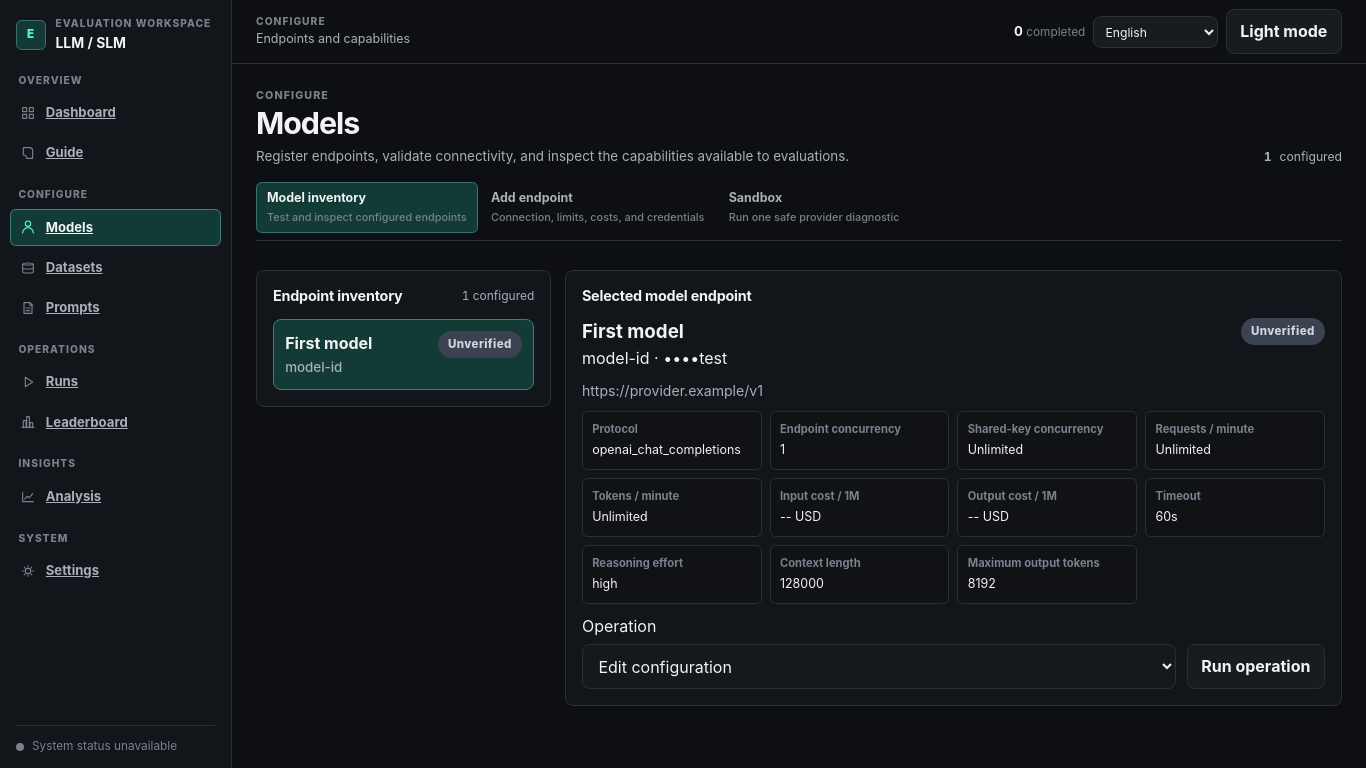
Test: endpoint onboarding handoff › keeps the user on the form after saving an edit instead of navigating to inventory
Click the button with aria-label "Select First model".
click(329, 343)  # box [273, 319, 534, 390]
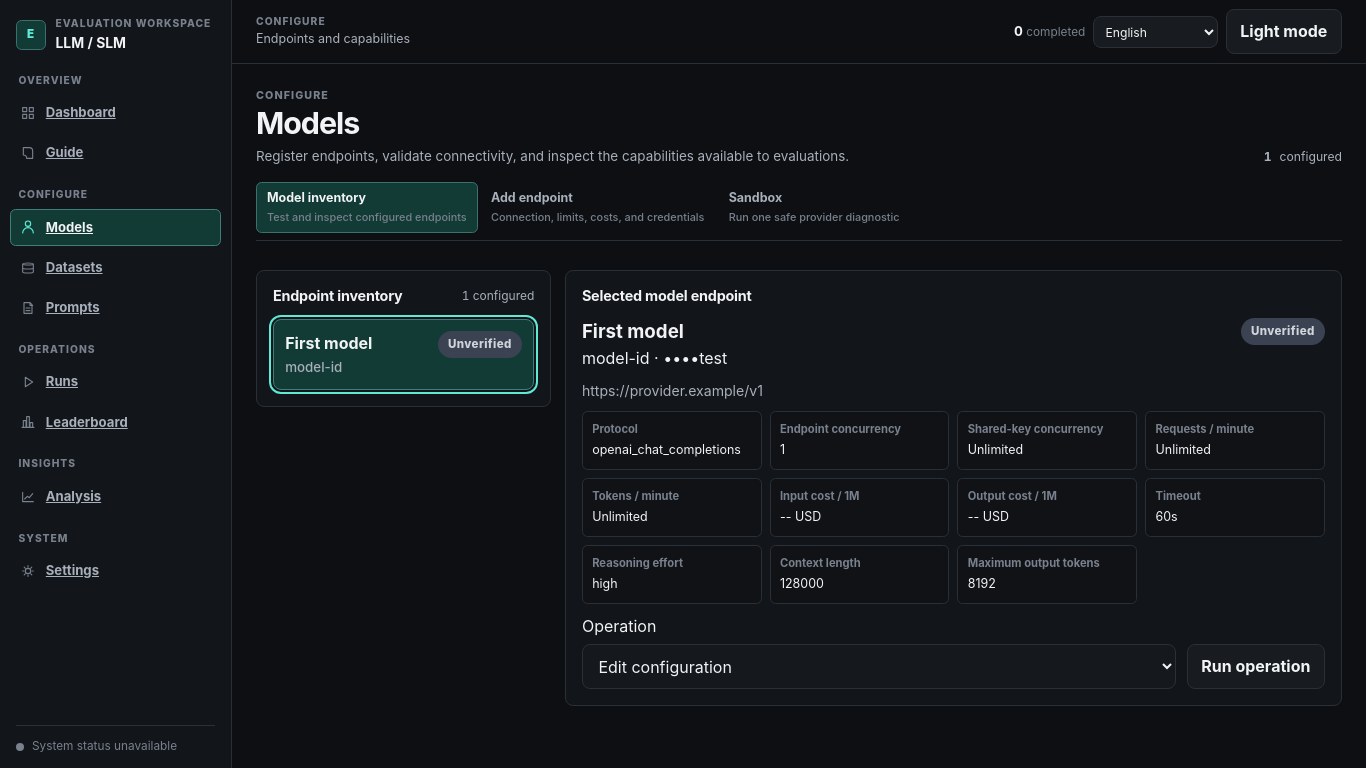
Select "Edit configuration" in the dropdown labelled "Operation" at (879, 667), box [582, 644, 1176, 689]
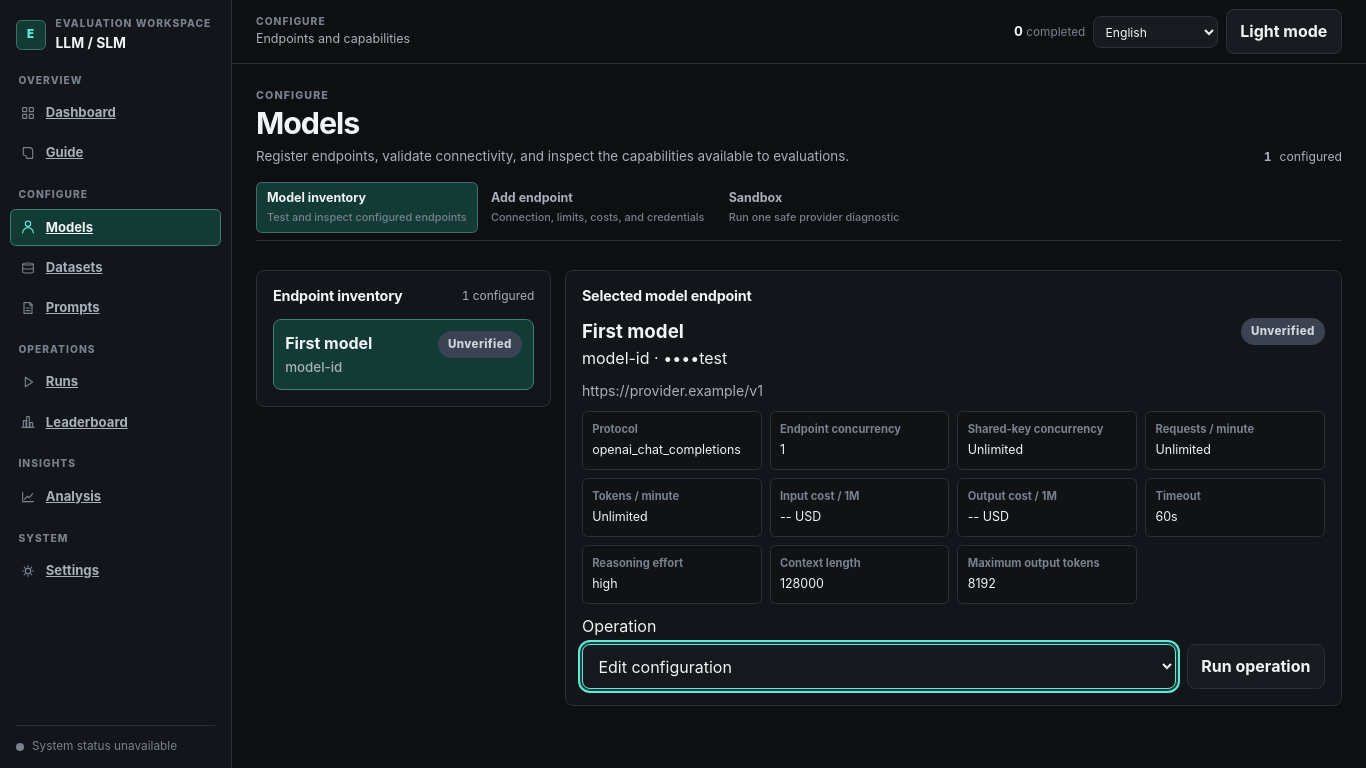
Click the button "Run operation".
click(1256, 666)  # box [1187, 644, 1325, 689]
(page scrolled)
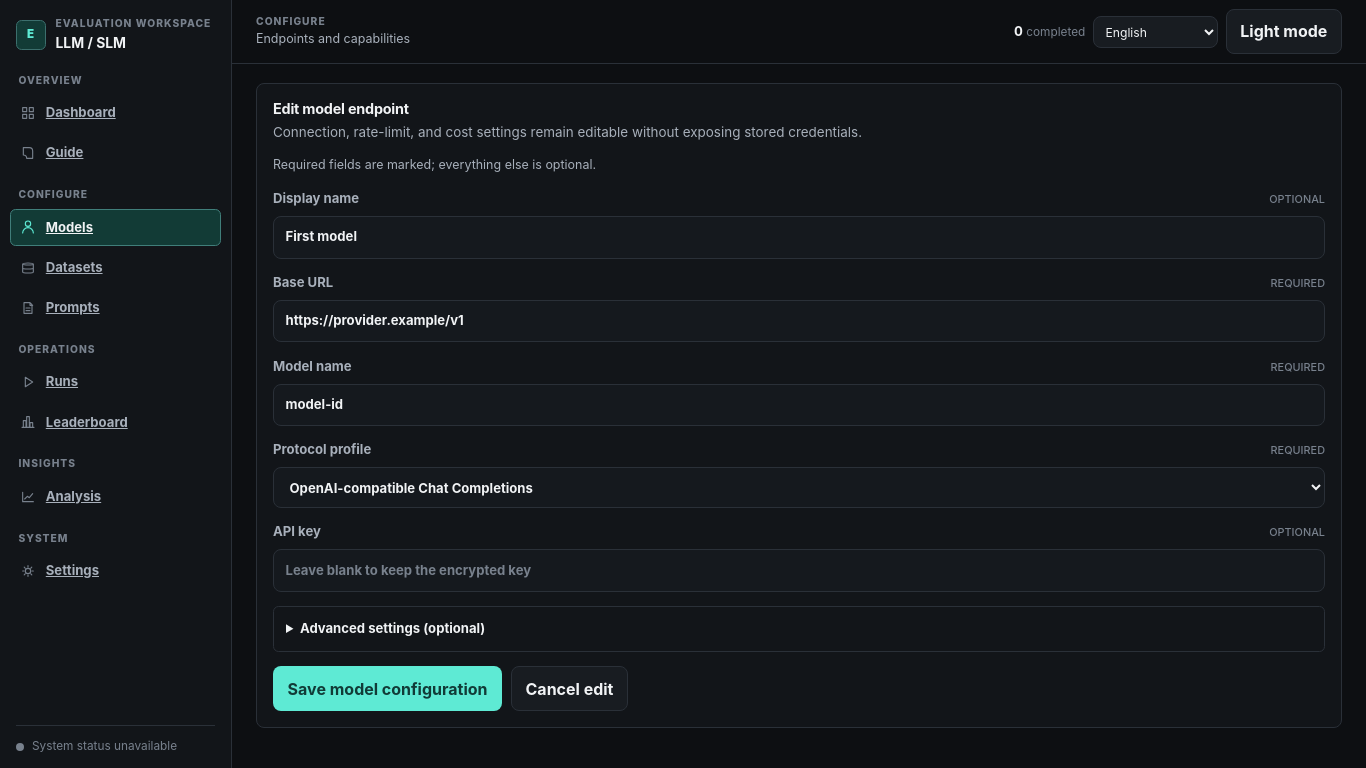
Check: the field labelled "Display name" holds "First model", box [273, 216, 1325, 258]
Click the heading "Advanced settings (optional)".
click(393, 628)  # box [300, 620, 485, 636]
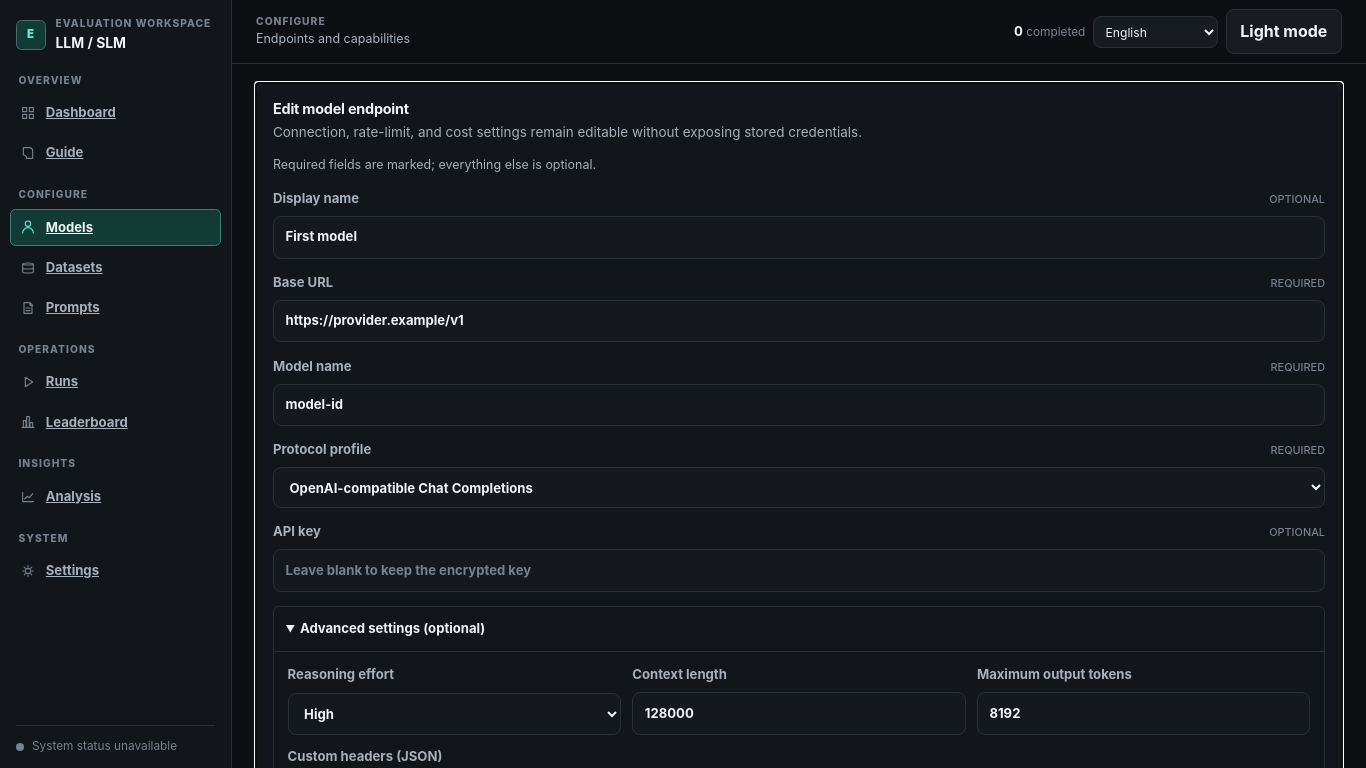
Check: the dropdown labelled "Reasoning effort" shows "High", box [288, 693, 621, 735]
Check: the number field labelled "Context length" holds "128000", box [632, 692, 966, 735]
Check: the number field labelled "Maximum output tokens" holds "8192", box [977, 692, 1310, 735]
Replace the text in the field labelled "Display name" with "Renamed model" at (799, 237), box [273, 216, 1325, 258]
(page scrolled)
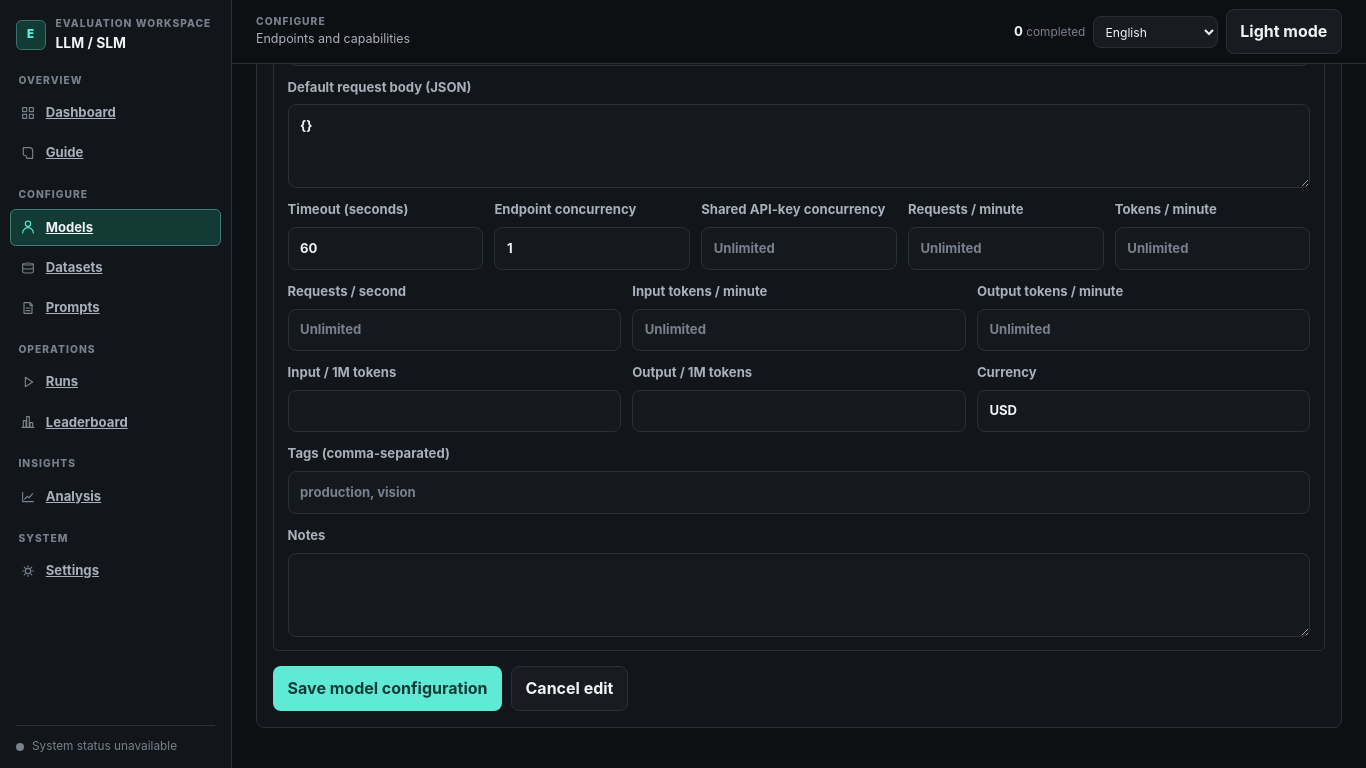
Click the button "Save model configuration".
click(388, 688)  # box [273, 666, 502, 711]
(page scrolled)
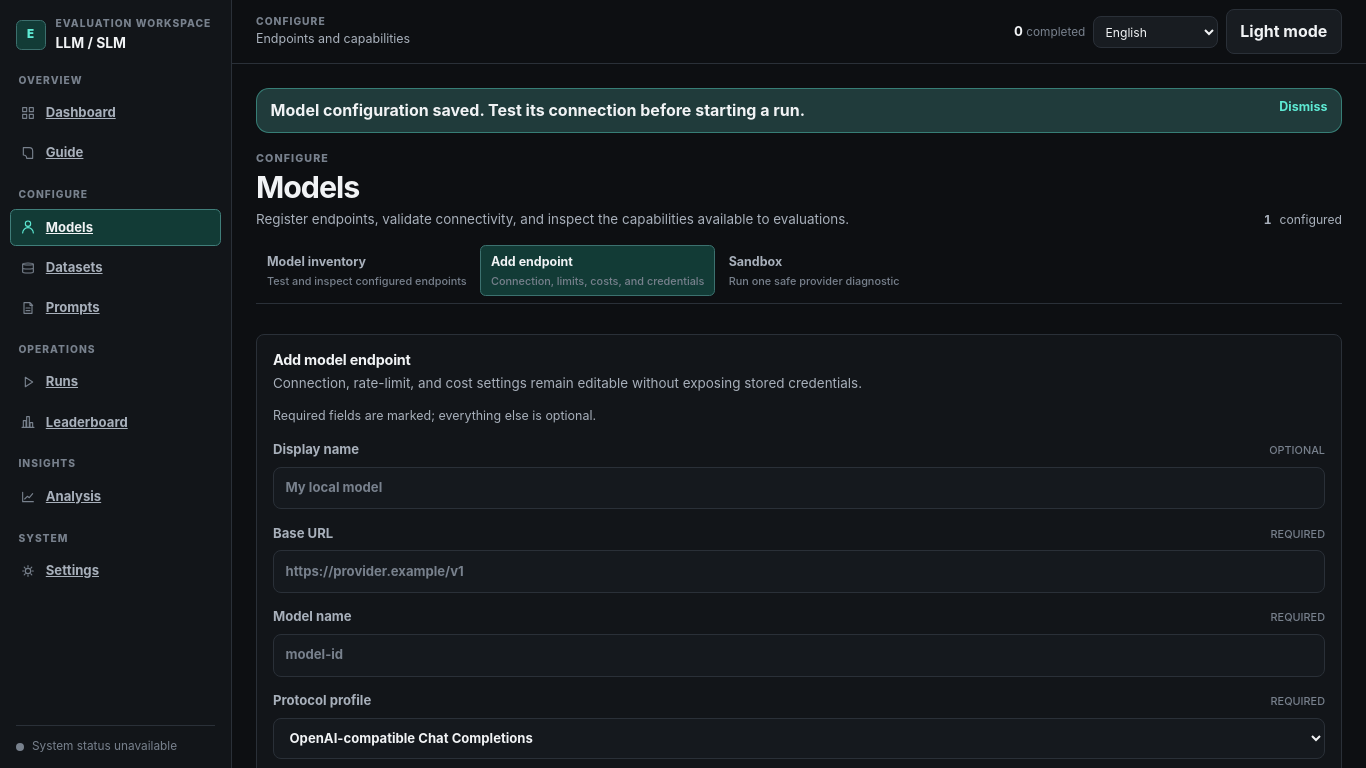
Check: the heading "Add model endpoint" is shown, box [273, 351, 411, 368]
